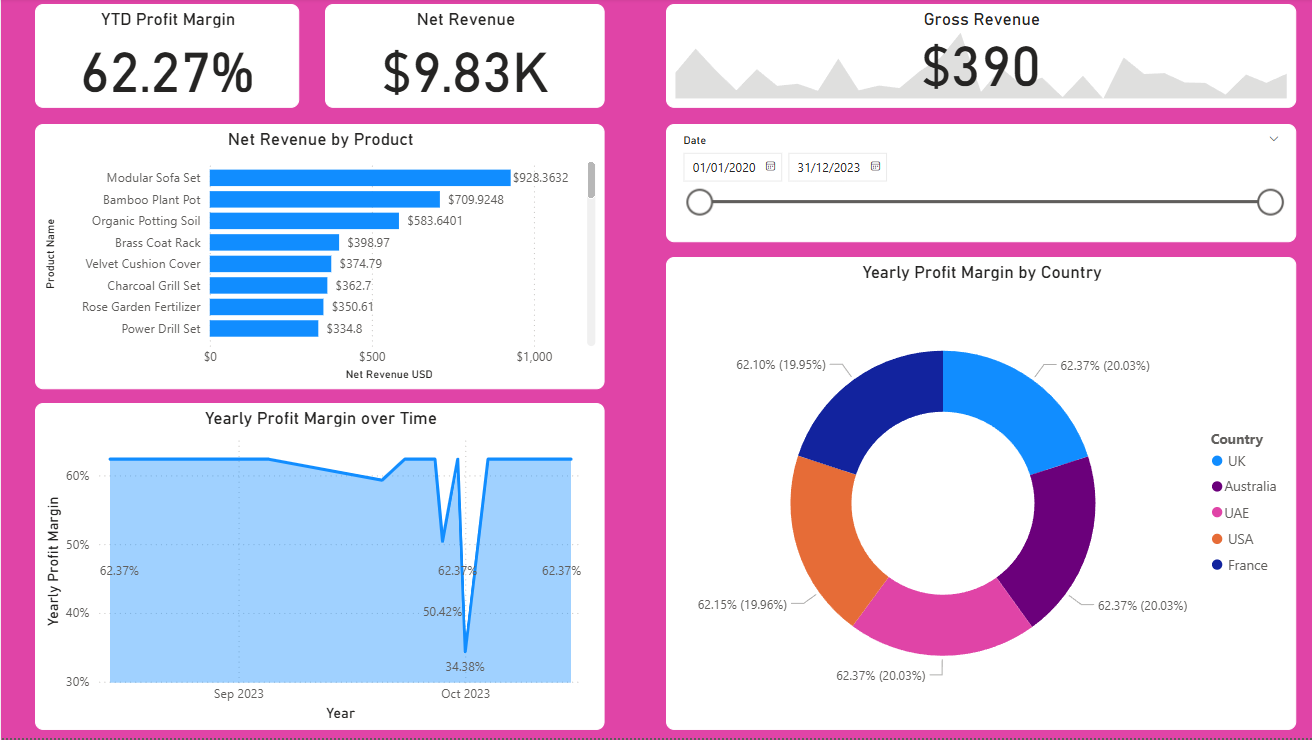

What the dashboard file says about the page in this screenshot:
{"tool":"powerbi","page":{"name":"Profit Overview","canvas":[1280,720],"ordinal":1},"visuals":[{"type":"clusteredBarChart","title":"Net Revenue by Product","fields":{"Category":["Sales in USD.Product Name"],"Y":["Sum(Sales in USD.Net Revenue USD)"]},"box":[33.1,122.6,554.4,258.7],"z":0},{"type":"donutChart","fields":{"Y":["Sales in USD.Yearly Profit Margin"],"Category":["Countries.Country"]},"box":[646.8,251.9,612.8,460.1],"z":1000},{"type":"stackedAreaChart","title":"Yearly Profit Margin over Time","fields":{"Y":["Sales in USD.Yearly Profit Margin"],"Category":["CalendarTable.Date.Variation.Date Hierarchy.Year","CalendarTable.Date.Variation.Date Hierarchy.Quarter","CalendarTable.Date.Variation.Date Hierarchy.Month","CalendarTable.Date.Variation.Date Hierarchy.Day"]},"box":[33.1,393.9,554.4,318.1],"z":2000},{"type":"slicer","fields":{"Values":["CalendarTable.Date"]},"box":[646.8,122.6,612.8,114.8],"z":3000},{"type":"card","title":"YTD Profit Margin","fields":{"Values":["Sales in USD.YTD Profit Margin"]},"box":[33.1,5.8,256.8,101.2],"z":4000},{"type":"card","title":"Net Revenue","fields":{"Values":["Sum(Sales in USD.Net Revenue USD)"]},"box":[315.1,5.8,272.3,101.2],"z":5000},{"type":"kpi","title":"Gross Revenue","fields":{"TrendLine":["CalendarTable.Date"],"Indicator":["Sum(Sales in USD.Gross Revenue USD)"]},"box":[646.8,5.8,612.8,101.2],"z":6000}]}

Visuals, with their boxes in screenshot pixels (x1, y1, x2, y2), scaled from the page's 1280x720 canvas onto the 1312x740 screenshot:
"Net Revenue by Product" clusteredBarChart: [34,126,602,392]
donutChart - Sales in USD.Yearly Profit Margin x Countries.Country: [663,259,1291,732]
"Yearly Profit Margin over Time" stackedAreaChart: [34,405,602,732]
slicer - CalendarTable.Date: [663,126,1291,244]
"YTD Profit Margin" card: [34,6,297,110]
"Net Revenue" card: [323,6,602,110]
"Gross Revenue" kpi: [663,6,1291,110]
